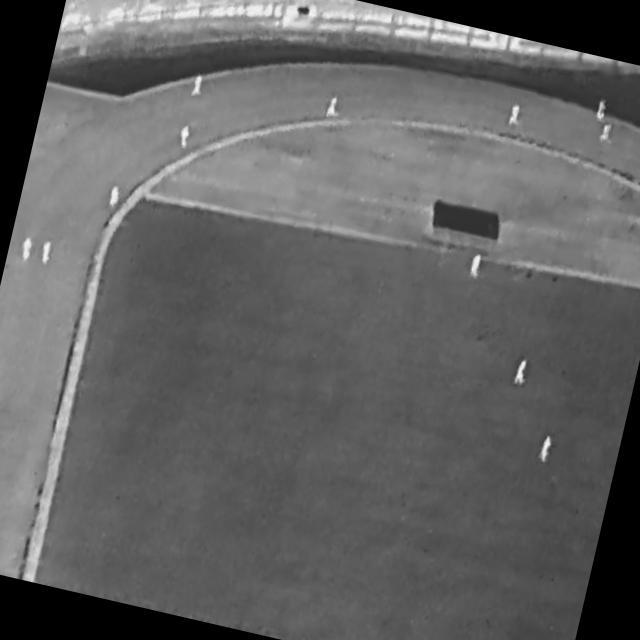person: (538, 434, 554, 465), (514, 359, 531, 388), (326, 95, 343, 120), (178, 125, 193, 151), (508, 104, 523, 130), (19, 237, 35, 261), (40, 242, 55, 266), (600, 124, 616, 146), (108, 186, 122, 211), (469, 254, 483, 279), (595, 100, 609, 124), (192, 76, 206, 99)
